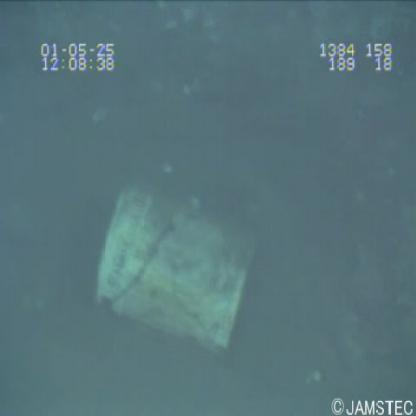Rác: (80, 172, 267, 364)
